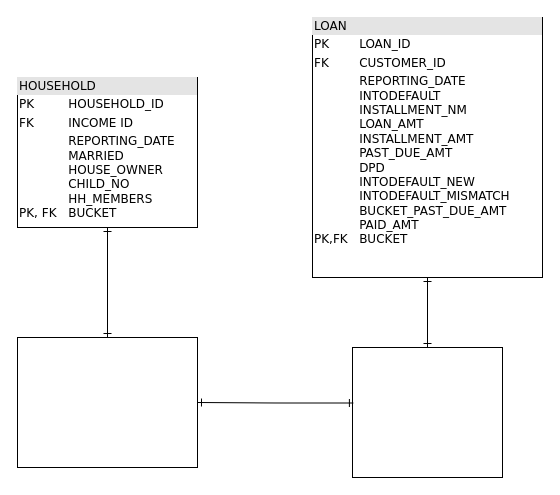
Some shapes in this 560 by 495 pixel diagram are drawn without their labels. The shapes that lost their labels are listed below. From the top down, each one's centre as x and y in pixels, then its label:
pixel 107 402: INCOME PK INCOME_ID FK CUSTOMER_ID PK,FK REPORTING_DATE FIRST JOB INCOME BUCKET
pixel 427 412: CLIENT PK CUSTOMER_ID REPORTING_DATE PK AGE EDUCATION BUCKET
